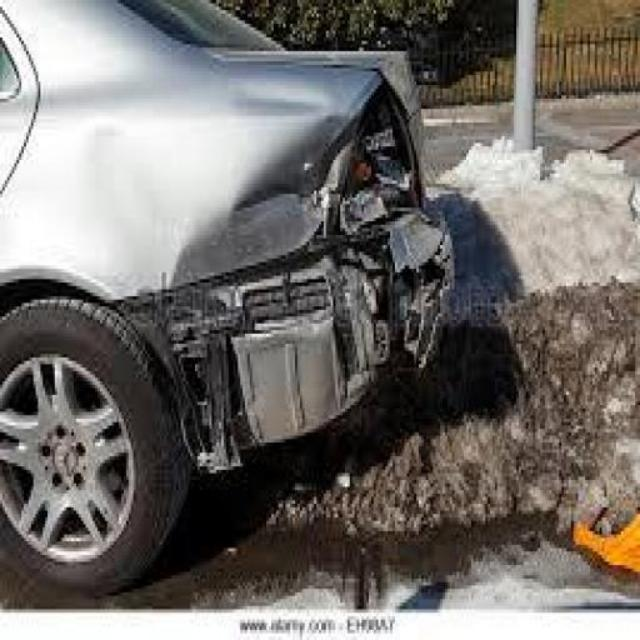no part: (111, 63, 461, 474)
